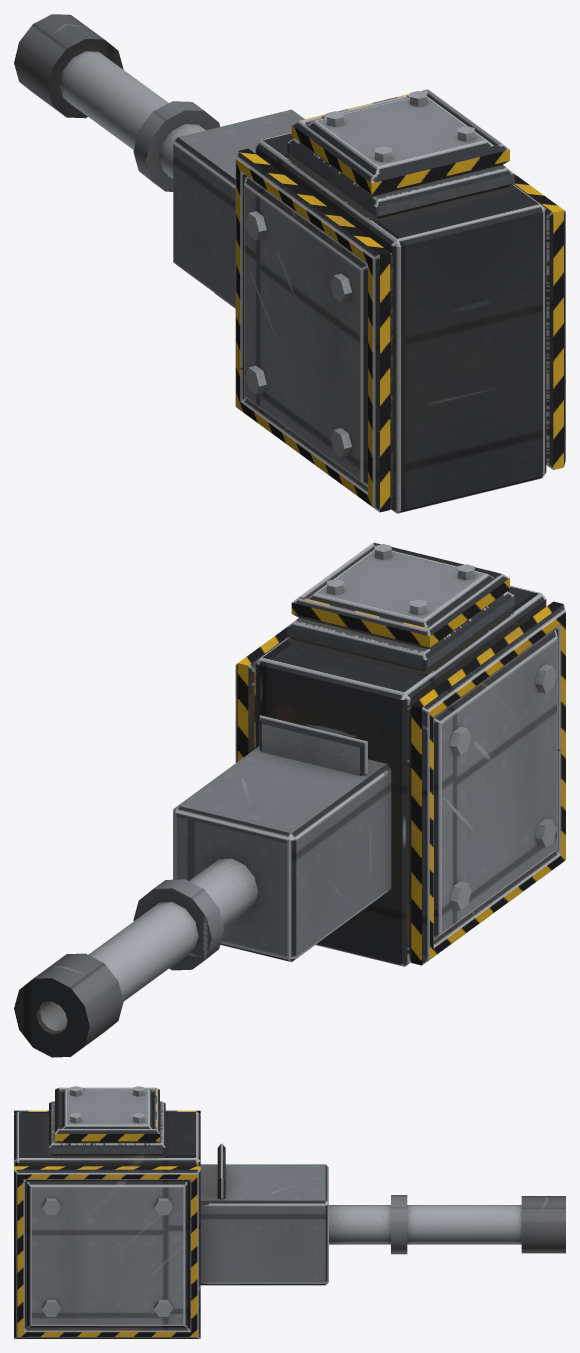
The model's file is laser_ligero_t1.fbx.
3 renders of one model, top to bottom at view 1: azimuth 30°, elevation 25°; view 2: azimuth 150°, elevation 25°; view 3: azimuth 270°, elevation 25°, orthographic. The views are drawn at different scales.
Visible parts, largest first — view 1: laser_ligero_t1; view 2: laser_ligero_t1; view 3: laser_ligero_t1.
Boxes of the visible parts, <box> form: laser_ligero_t1: <box>14,14,565,513</box>; laser_ligero_t1: <box>14,542,565,1057</box>; laser_ligero_t1: <box>14,1086,565,1338</box>.
Size of the model in its own units: 1.38 by 2.01 by 4.73.
